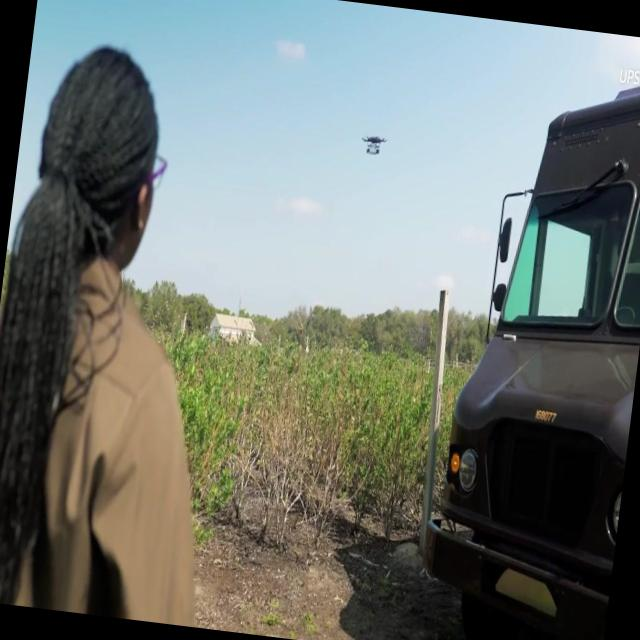drone: (358, 130, 388, 160)
